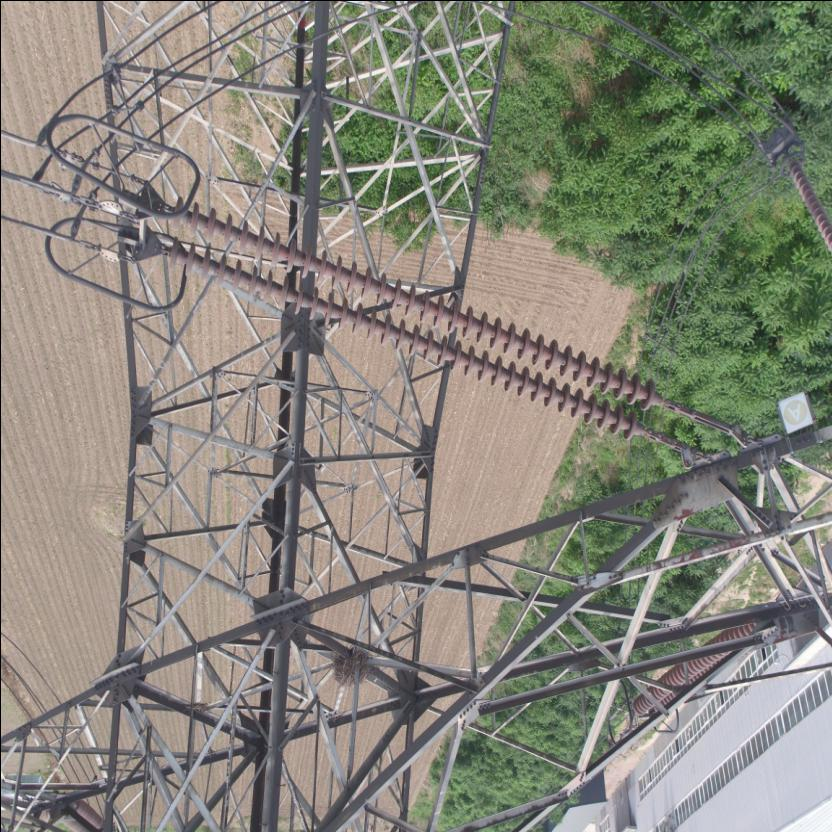insulator: (152, 194, 676, 445)
